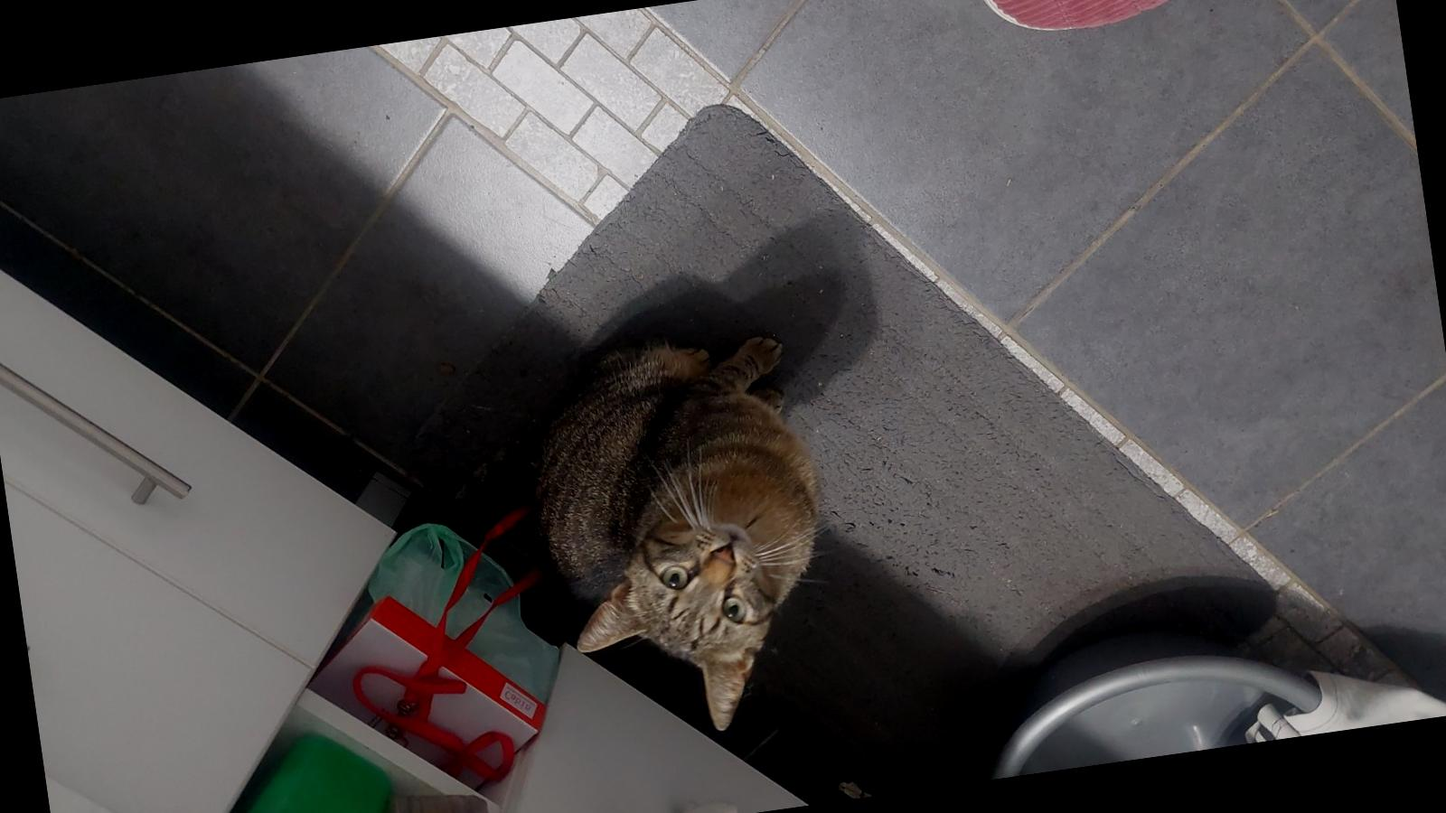macka: (408, 319, 845, 772)
